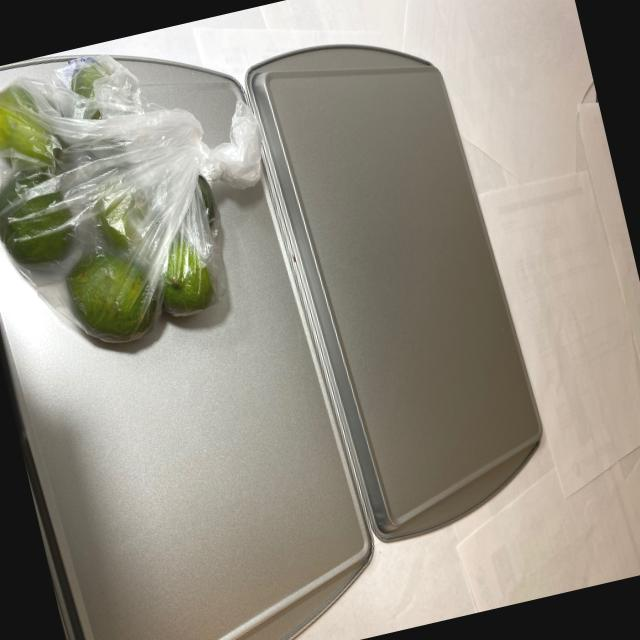lemon: (0, 25, 254, 377)
